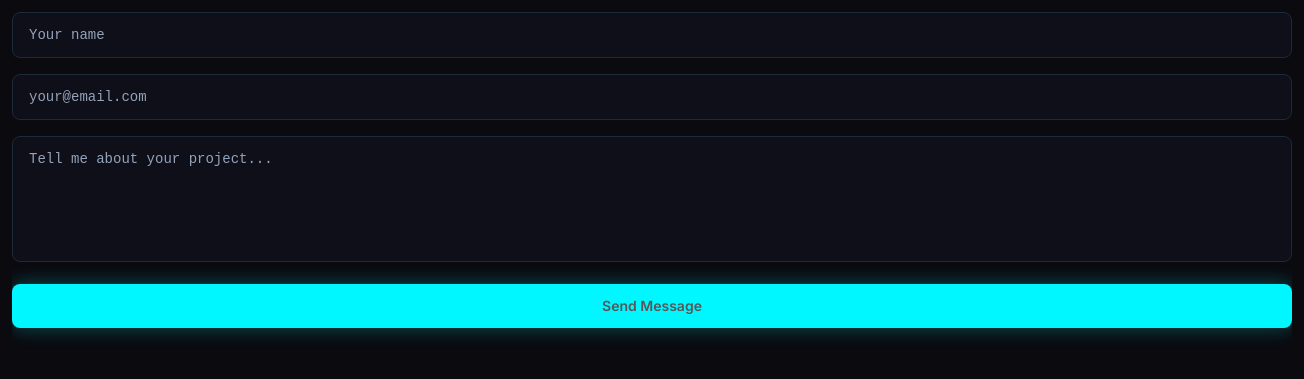
it: ContactForm › shows an error for invalid email
The image size is (1304, 379).
Step 1. Type "Ada" into the field labelled "Your name" → x=652, y=35, box [12,12,1292,58]
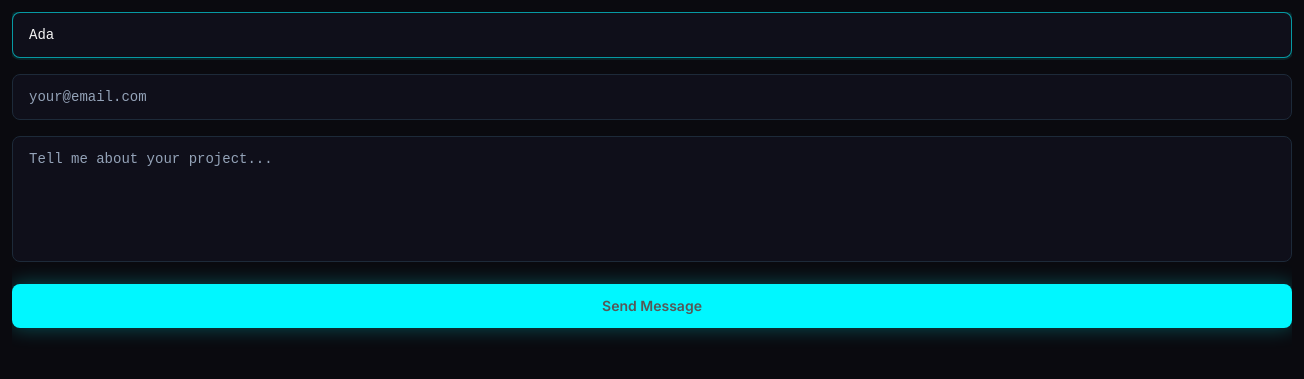
Step 2. Type "not-an-email" into the field named "your email" → x=652, y=97, box [12,74,1292,120]
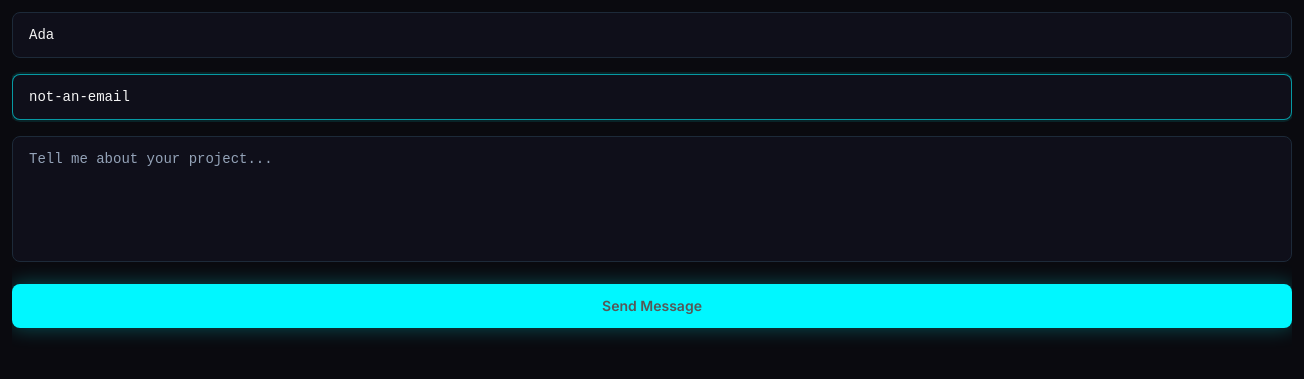
Step 3. Type "Hello" into the text box named "your message" → x=652, y=199, box [12,136,1292,262]
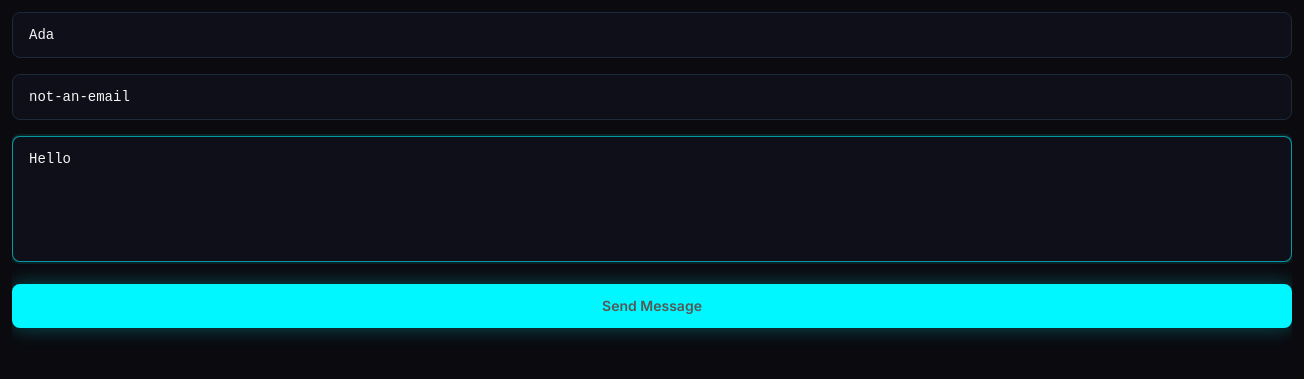
Step 4. Click the button "Send Message" → x=652, y=306, box [12,284,1292,328]
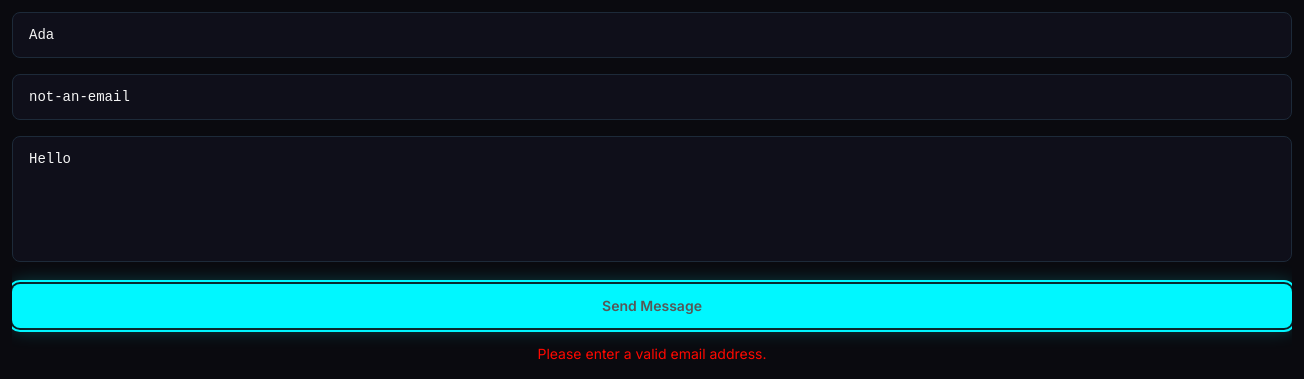
expect the text "Please enter a valid email address." is shown: met, box [538,345,766,362]
